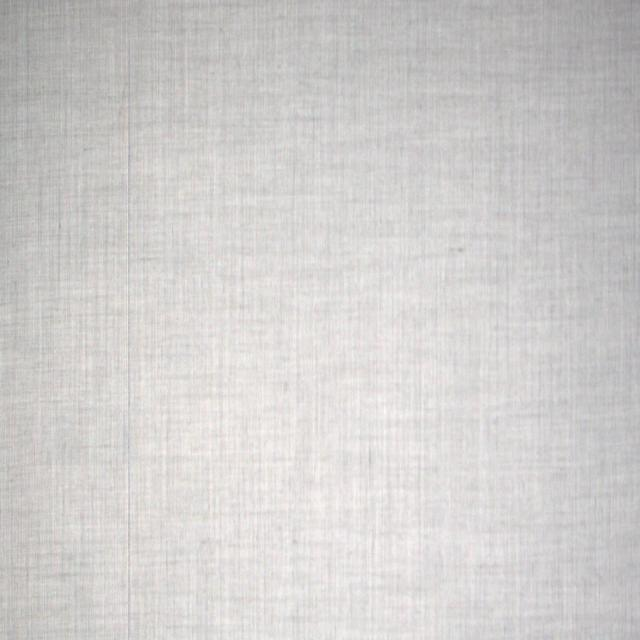dirty: (452, 246, 463, 250)
